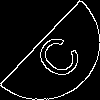C: (25, 25, 86, 84)
